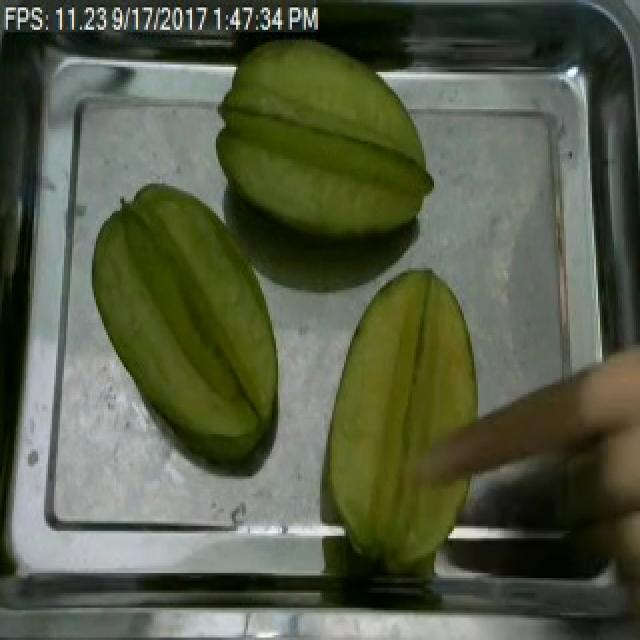fruit: (78, 174, 296, 456), (308, 258, 492, 585), (202, 27, 446, 253), (556, 330, 640, 536)
